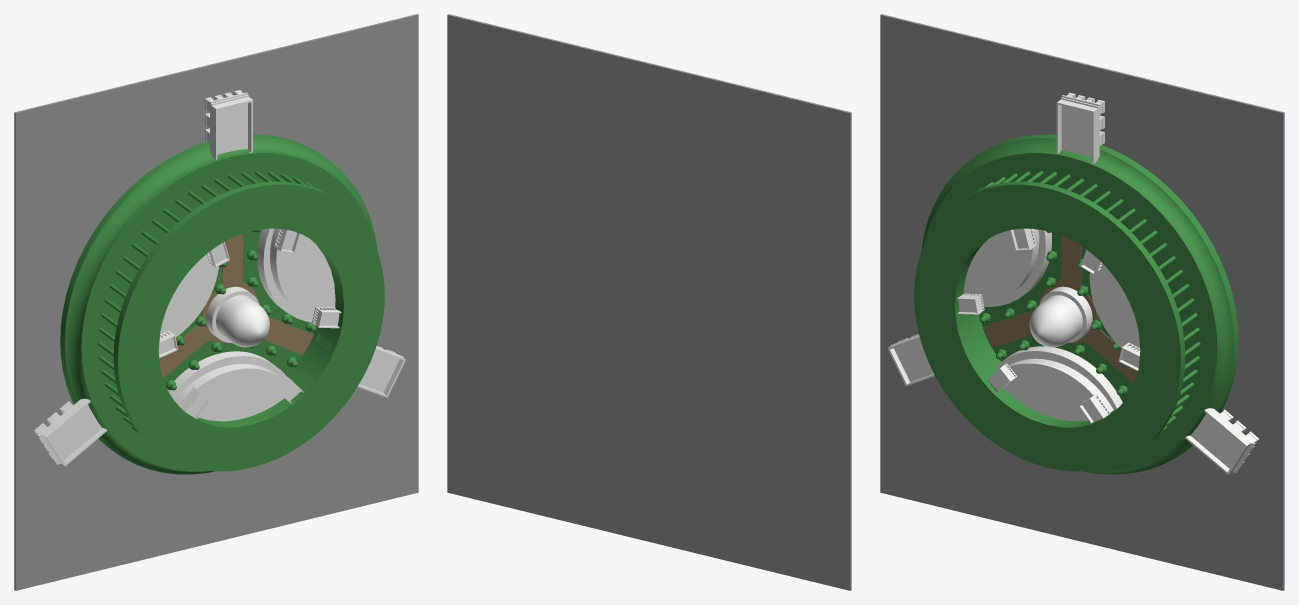
File: parliament v7.fbx
The picture shows the model from 3 angles, left to right: view 1: azimuth 30°, elevation 25°; view 2: azimuth 150°, elevation 25°; view 3: azimuth 330°, elevation 25°; orthographic projection.
Parts seen in each view (by area): view 1: Body41, Body1, Body16, Body18, Body20, Body19, Body15, Body13, Body2, Body14; view 2: Body41; view 3: Body41, Body1, Body16, Body19, Body20, Body18, Body15, Body2, Body14, Body13.
Boxes of the visible parts, x1,y1,x2,y2 form: Body41: (14,14,418,590); Body1: (60,134,384,474); Body16: (167,351,303,421); Body18: (257,228,341,328); Body20: (159,234,313,377); Body19: (158,242,229,358); Body15: (206,286,269,347); Body13: (34,398,107,466); Body2: (205,90,252,159); Body14: (357,346,405,397); Body41: (447,14,851,590); Body41: (880,14,1284,590); Body1: (914,134,1238,474); Body16: (985,346,1122,423); Body19: (957,228,1051,314); Body20: (982,236,1137,383); Body18: (1080,249,1140,371); Body15: (1029,286,1092,347); Body2: (1056,92,1104,164); Body14: (1185,408,1259,474); Body13: (887,334,934,386).
Bounding box in the file's own units: 543 × 615 × 103.
